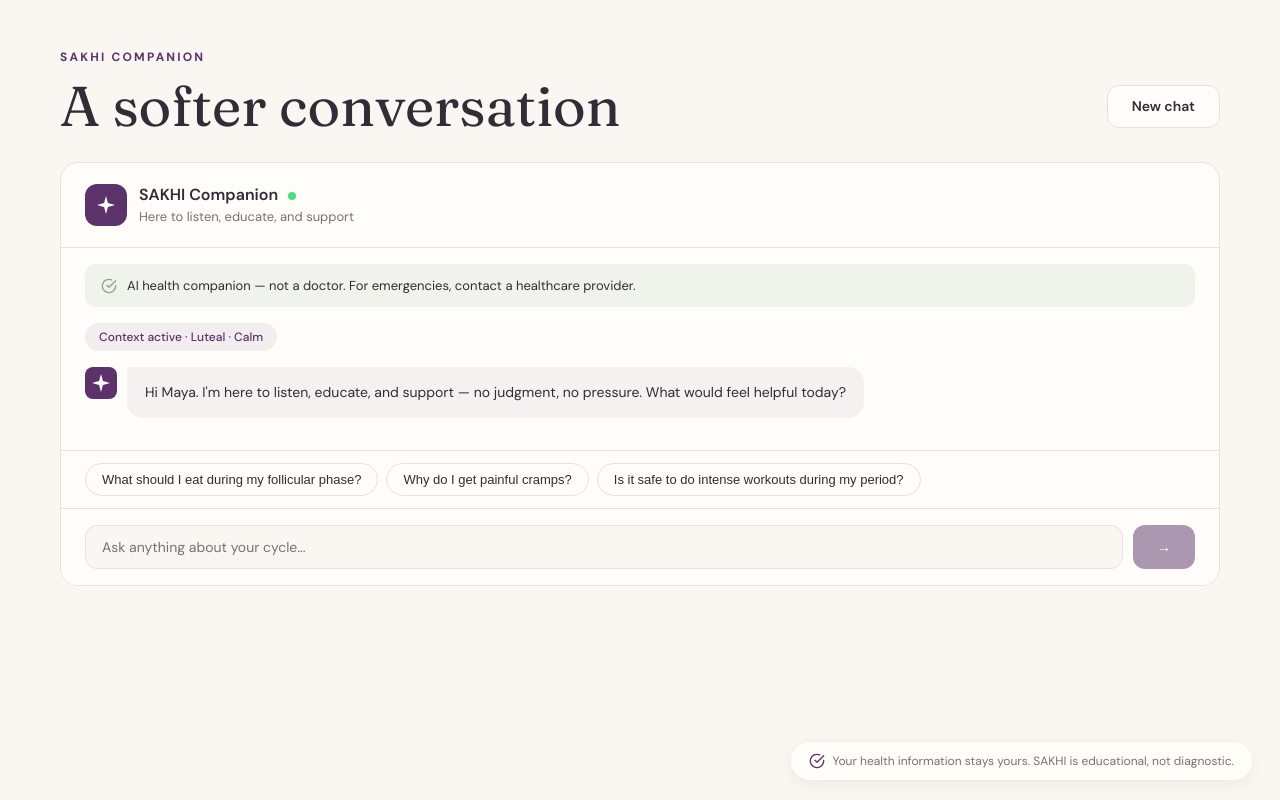
Chatbot feature › shows fallback message when API fails
The image size is (1280, 800).
Type "I feel low" into the field with placeholder "Ask anything about your cycle..." at coordinates (604, 547), box [85,525,1123,569]
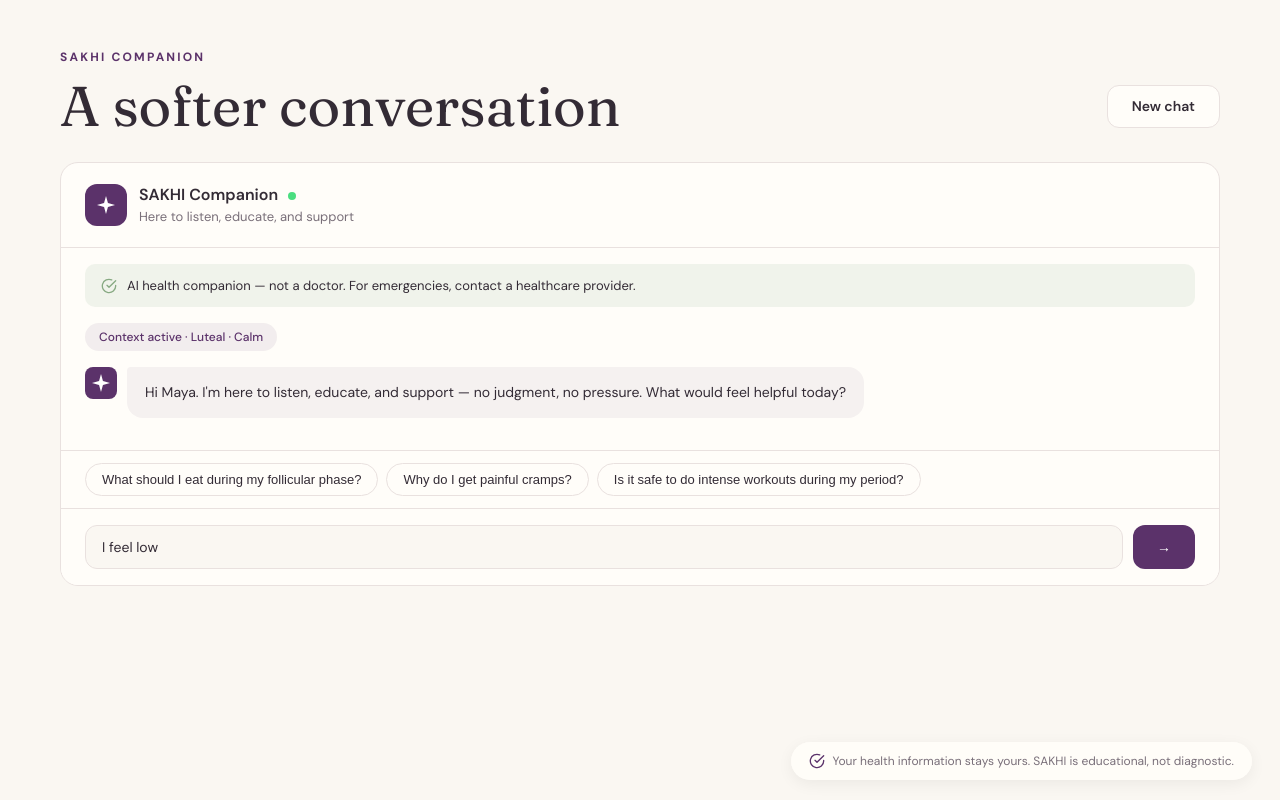
Click the button named "Send" at coordinates (1164, 547), box [1133,525,1195,569]
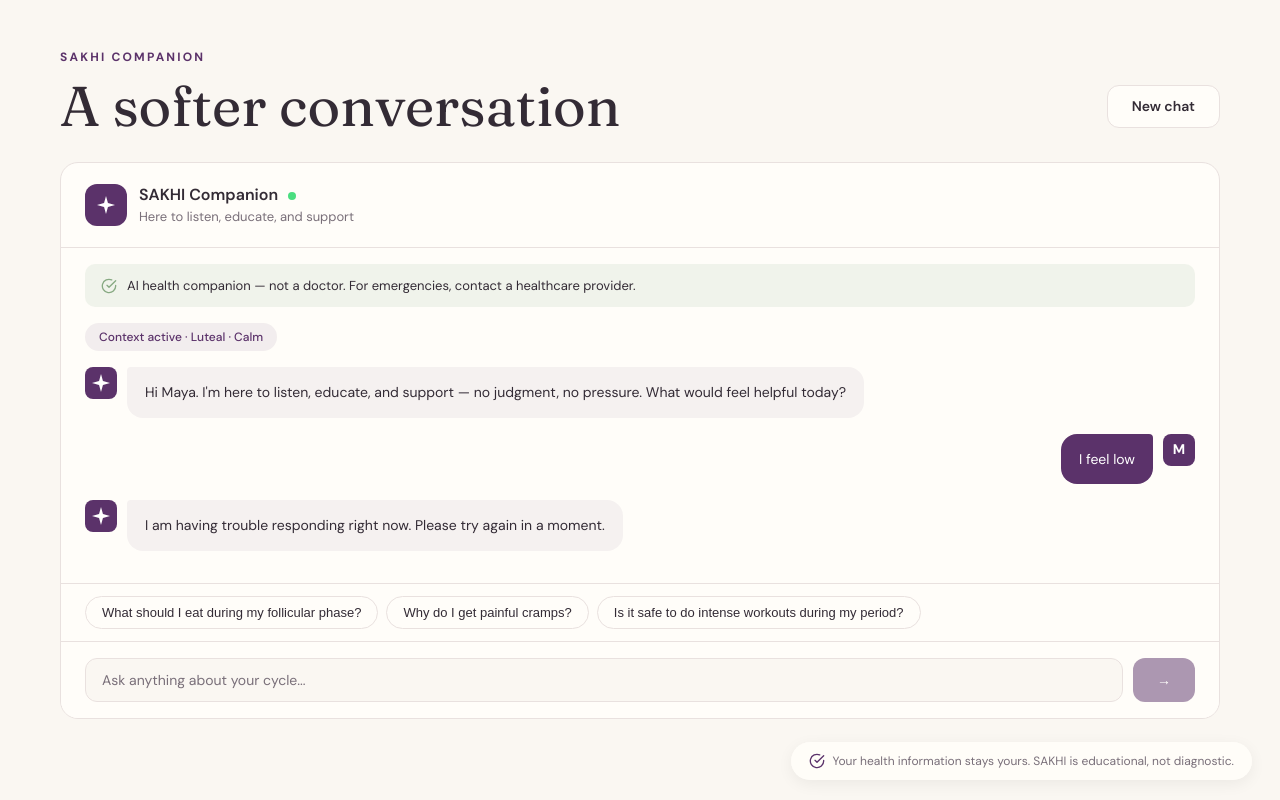
Check: the text "I am having trouble responding right now. Please try again in a moment." is shown, box [127,500,623,551]
